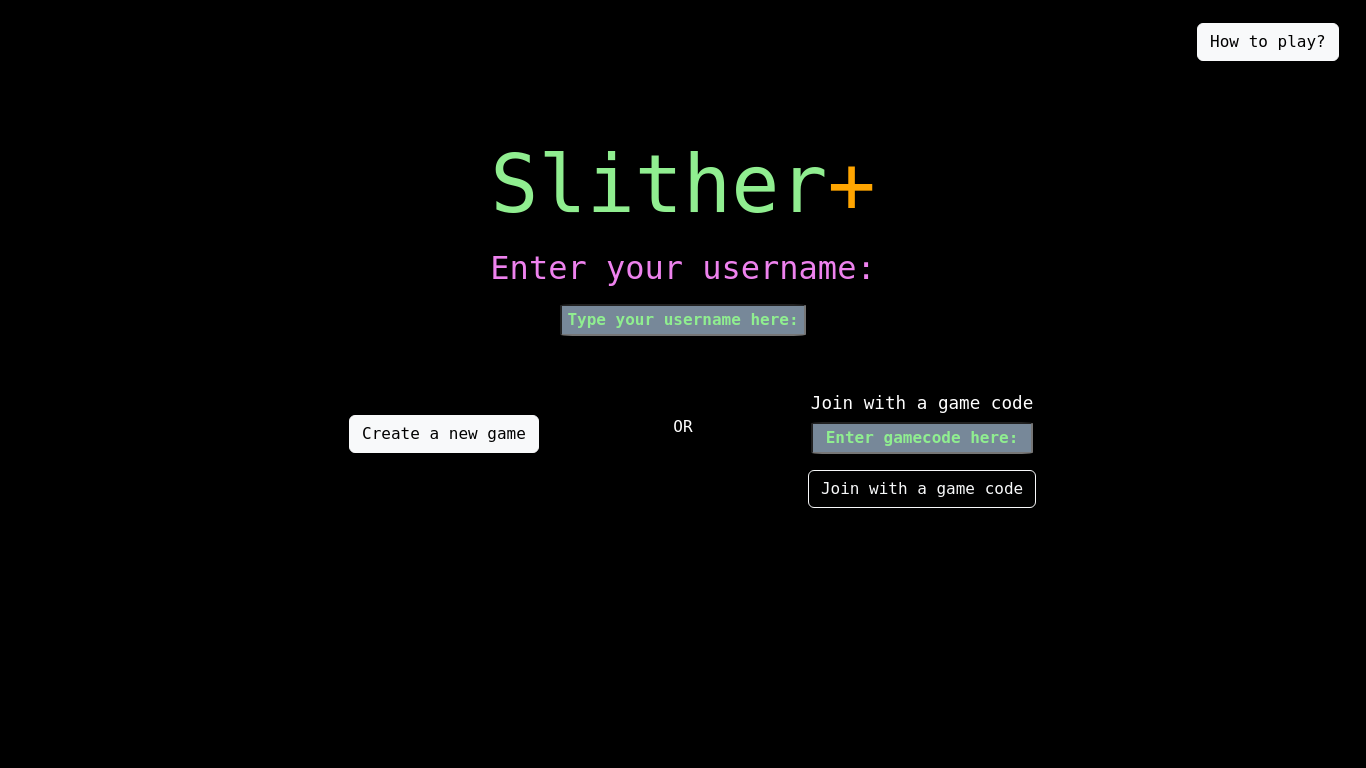
Scenario: Checking the how-to-play button works properly
The image size is (1366, 768).
Click the button with aria-label "How To Play button": (1268, 42) [1197, 23, 1339, 61]
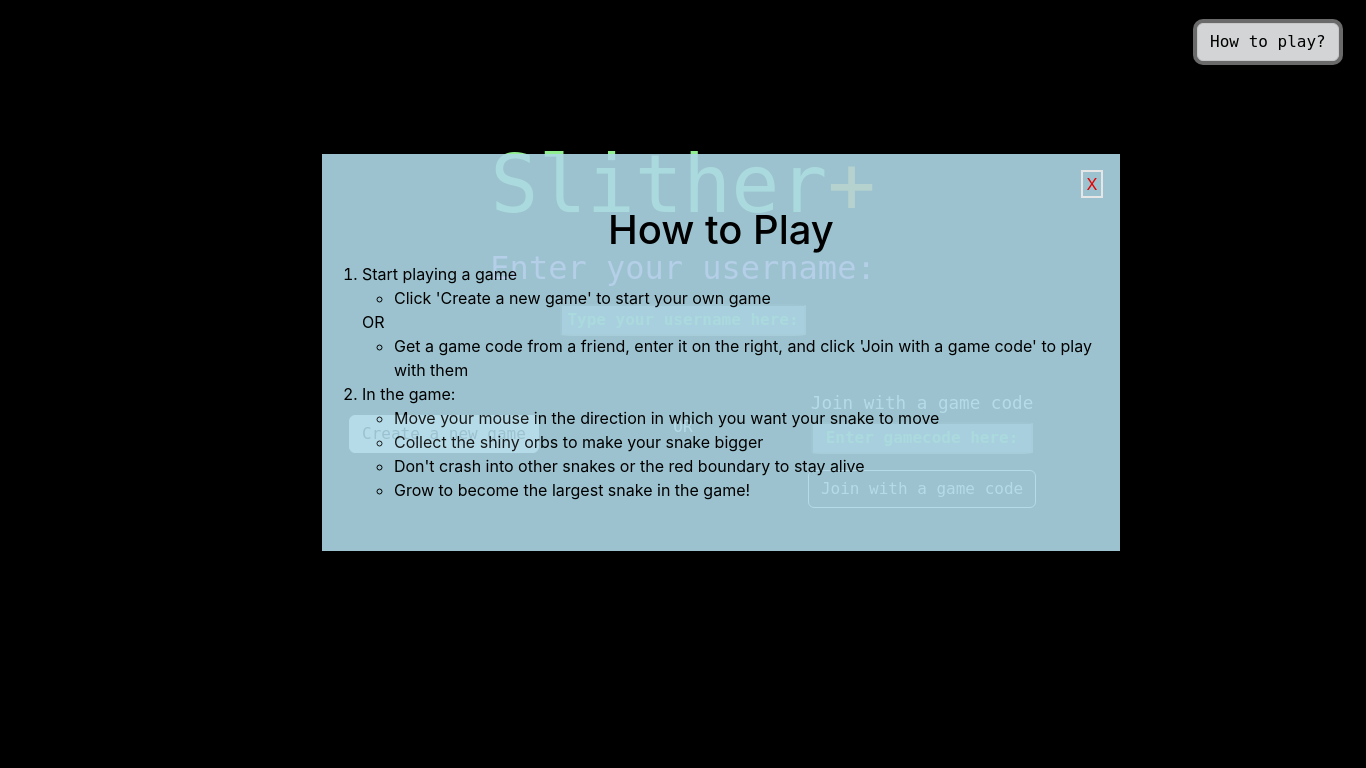
Result: the element named "How To Play Box" is shown at [322, 154, 1120, 551]
